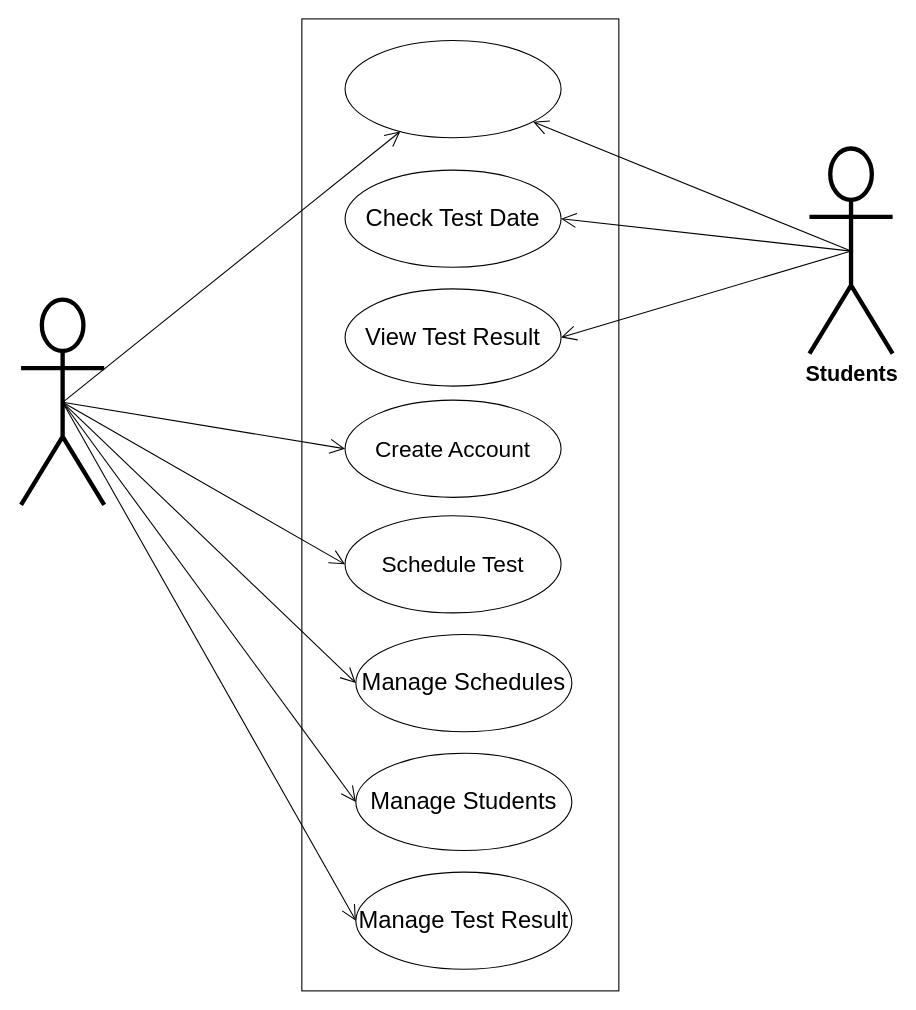
The diagram is 916 pixels wide and 1010 high, and some of its shapes have lost their labels. Here are the shapes that lost their labels. From the top down, the centre of each, then its label:
At point 452,88: "Login / Logout".
At point 62,402: "System Admin".
